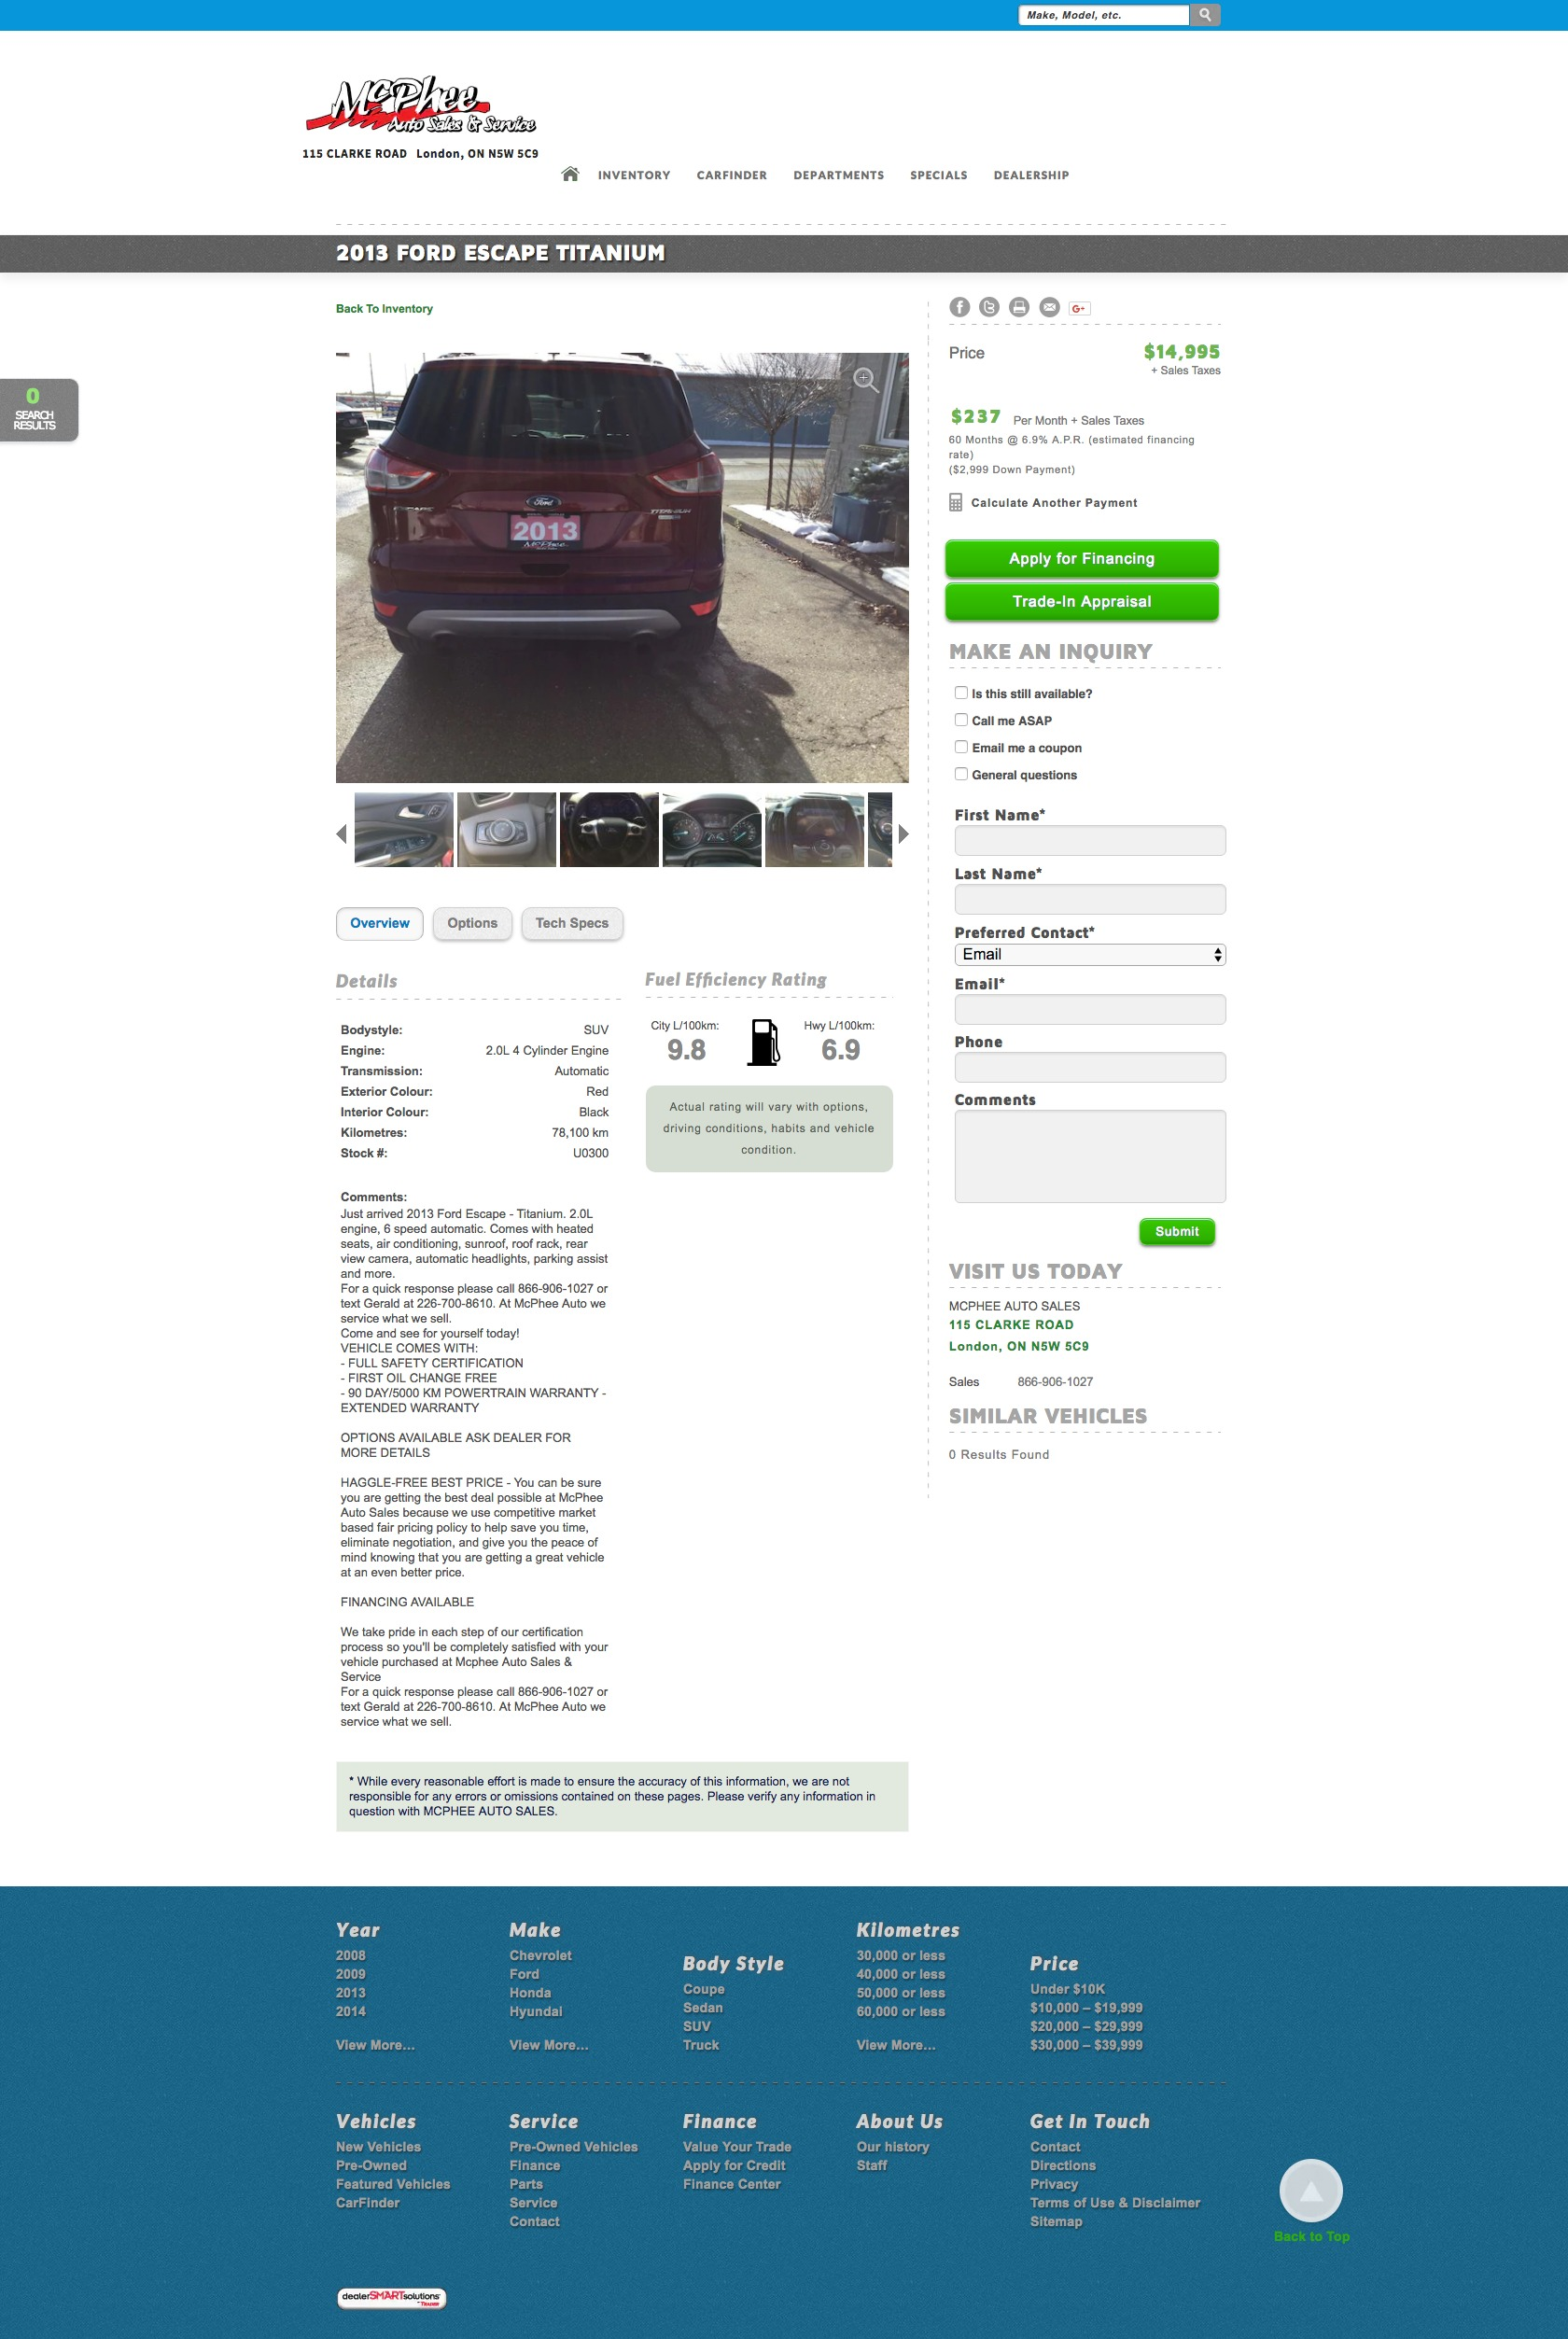car: (898, 824, 912, 845)
